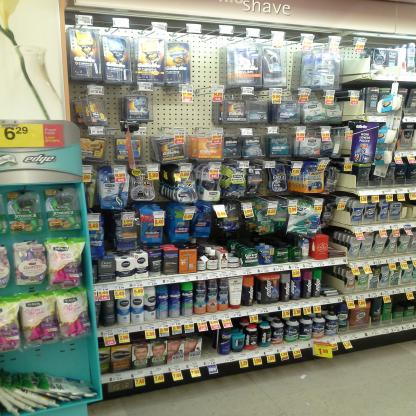Void: (164, 91, 218, 123), (198, 37, 224, 82), (199, 334, 220, 358), (325, 268, 345, 292)
